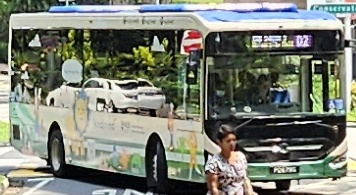bus: (292, 32, 310, 47)
